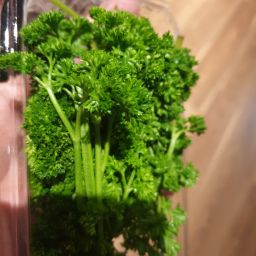Parsley: (21, 4, 207, 180), (3, 22, 208, 157), (18, 93, 196, 241)
